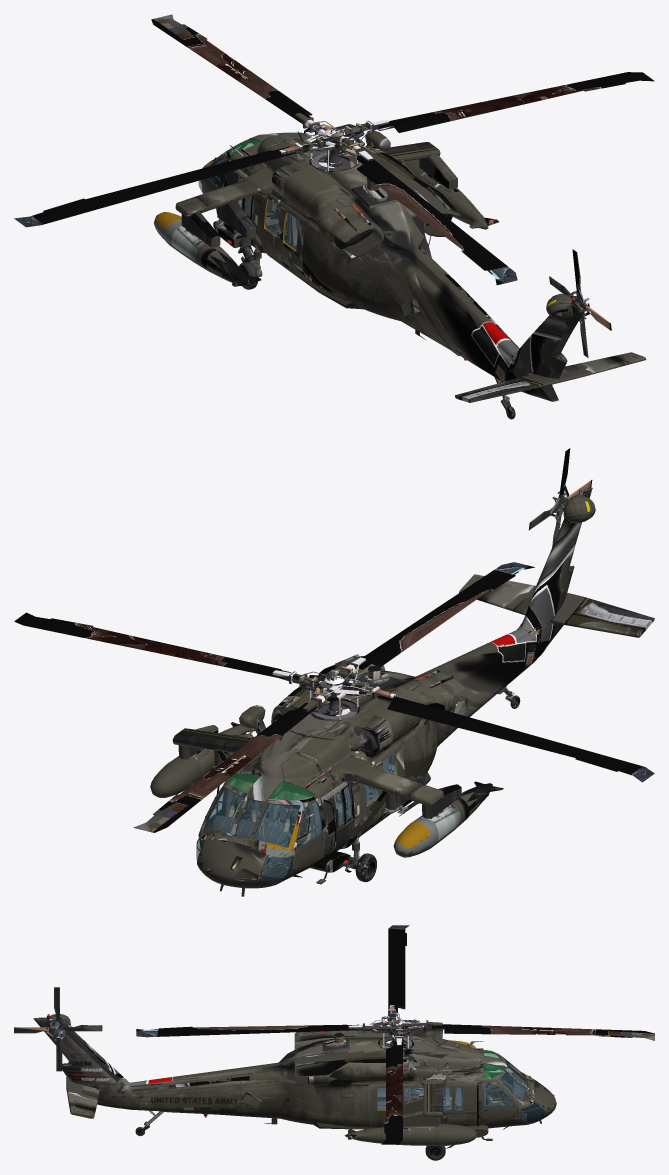
3 renders of one model, top to bottom at view 1: azimuth 30°, elevation 25°; view 2: azimuth 150°, elevation 25°; view 3: azimuth 270°, elevation 25°, orthographic. The views are drawn at different scales.
Visible parts, largest first — view 1: uh60.001; view 2: uh60.001; view 3: uh60.001.
Boxes of the visible parts, x1,y1,x2,y2 form: uh60.001: (14, 14, 654, 419); uh60.001: (14, 448, 654, 896); uh60.001: (14, 925, 654, 1160).
Bounding box in the file's own units: 1593 × 523 × 1969.
